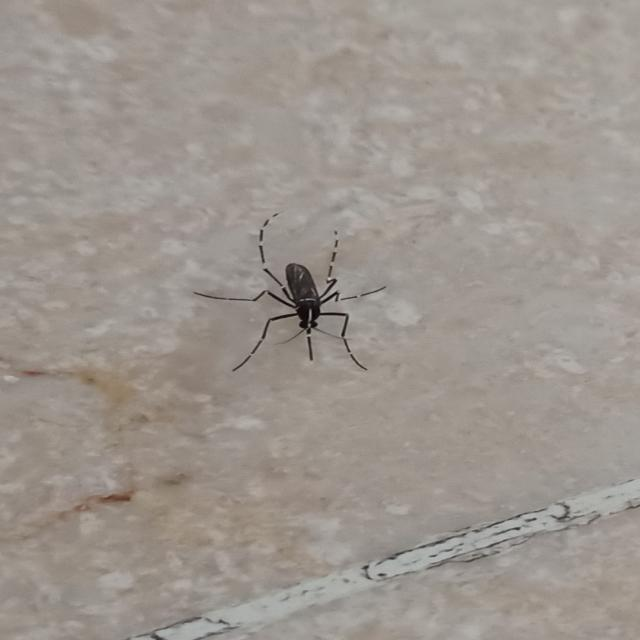albopictus: (178, 207, 397, 376)
